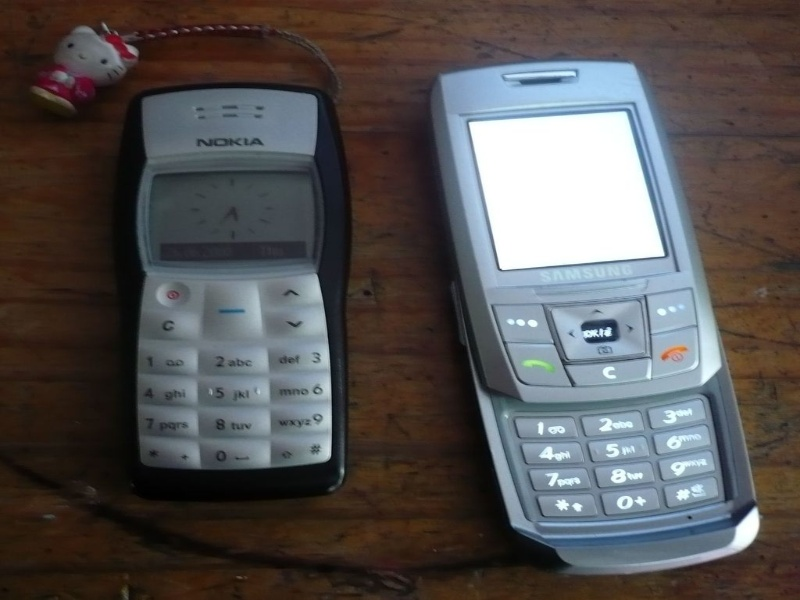cellphone: (419, 61, 771, 575)
